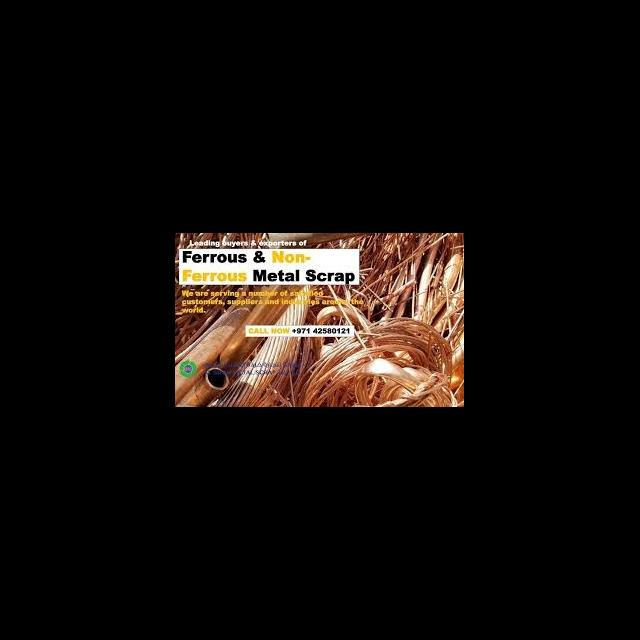metal: (298, 308, 460, 406), (346, 350, 438, 406), (176, 363, 233, 406)
